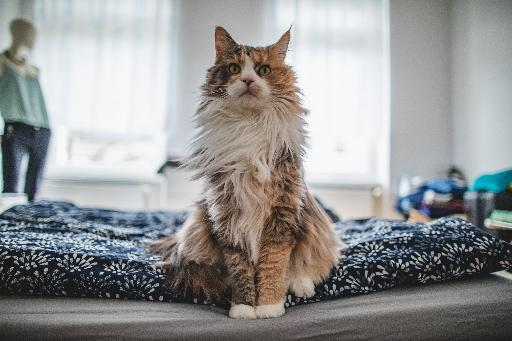cat_sitting: (151, 26, 345, 319)
